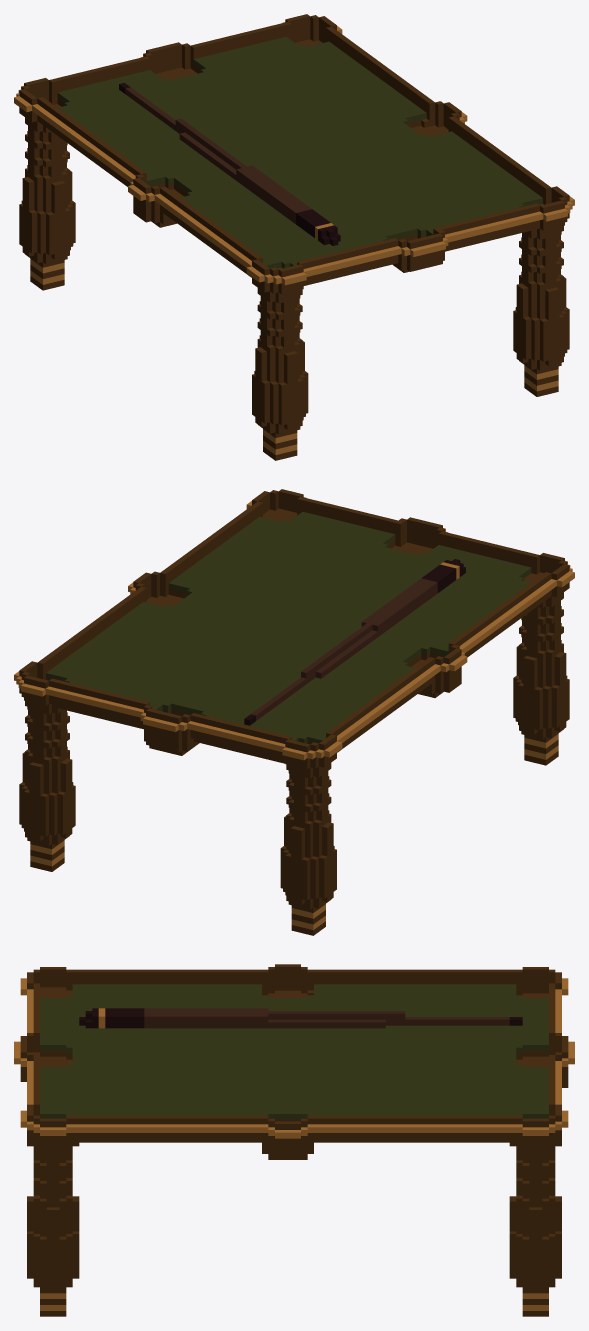
File: pool.obj
3 renders of one model, top to bottom at view 1: azimuth 30°, elevation 25°; view 2: azimuth 150°, elevation 25°; view 3: azimuth 270°, elevation 25°, orthographic. The views are drawn at different scales.
Size of the model in its own units: 60 by 34 by 86.
Materials: 1 (1 with a texture image).
